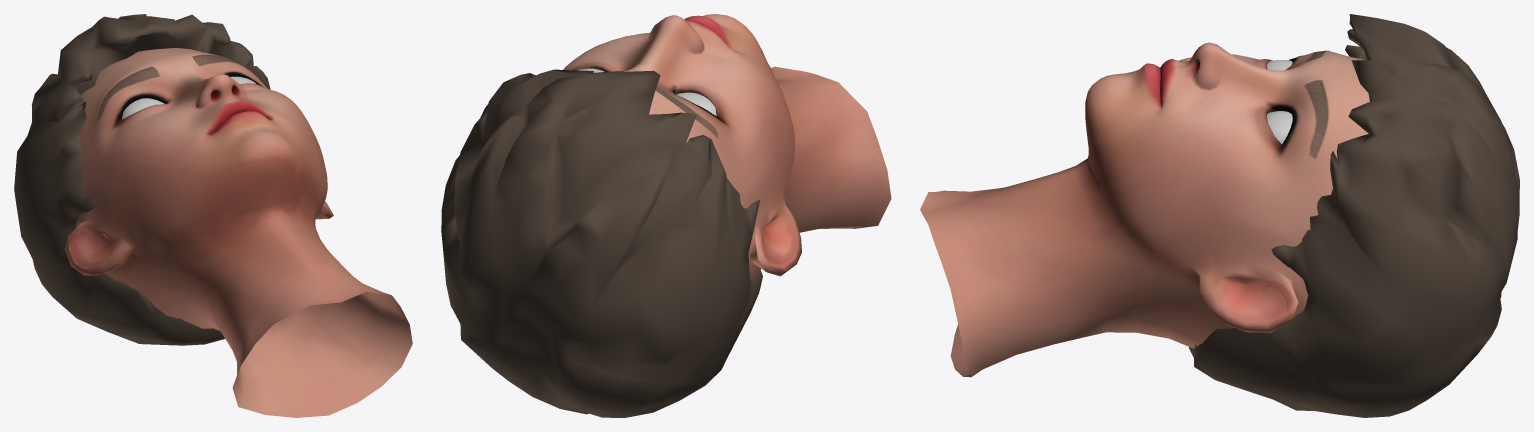
File: Female_Burma_Head.fbx
3 views of the same model, side by side, from view 1: azimuth 30°, elevation 25°; view 2: azimuth 150°, elevation 25°; view 3: azimuth 270°, elevation 25° (orthographic). The views are drawn at different scales.
Visible parts, largest first — view 1: Wolf3D_Head, Wolf3D_Hair, EyeRight; view 2: Wolf3D_Hair, Wolf3D_Head; view 3: Wolf3D_Head, Wolf3D_Hair, EyeLeft.
Boxes of the visible parts, x1=… form: Wolf3D_Head: x1=65, y1=48, x2=412, y2=417; Wolf3D_Hair: x1=14, y1=14, x2=270, y2=345; EyeRight: x1=121, y1=98, x2=164, y2=119; Wolf3D_Hair: x1=441, y1=69, x2=762, y2=417; Wolf3D_Head: x1=563, y1=14, x2=891, y2=279; Wolf3D_Head: x1=920, y1=42, x2=1369, y2=377; Wolf3D_Hair: x1=1188, y1=14, x2=1519, y2=417; EyeLeft: x1=1267, y1=111, x2=1292, y2=144.
Size of the model in its own units: 18.91 by 22.22 by 33.02.
